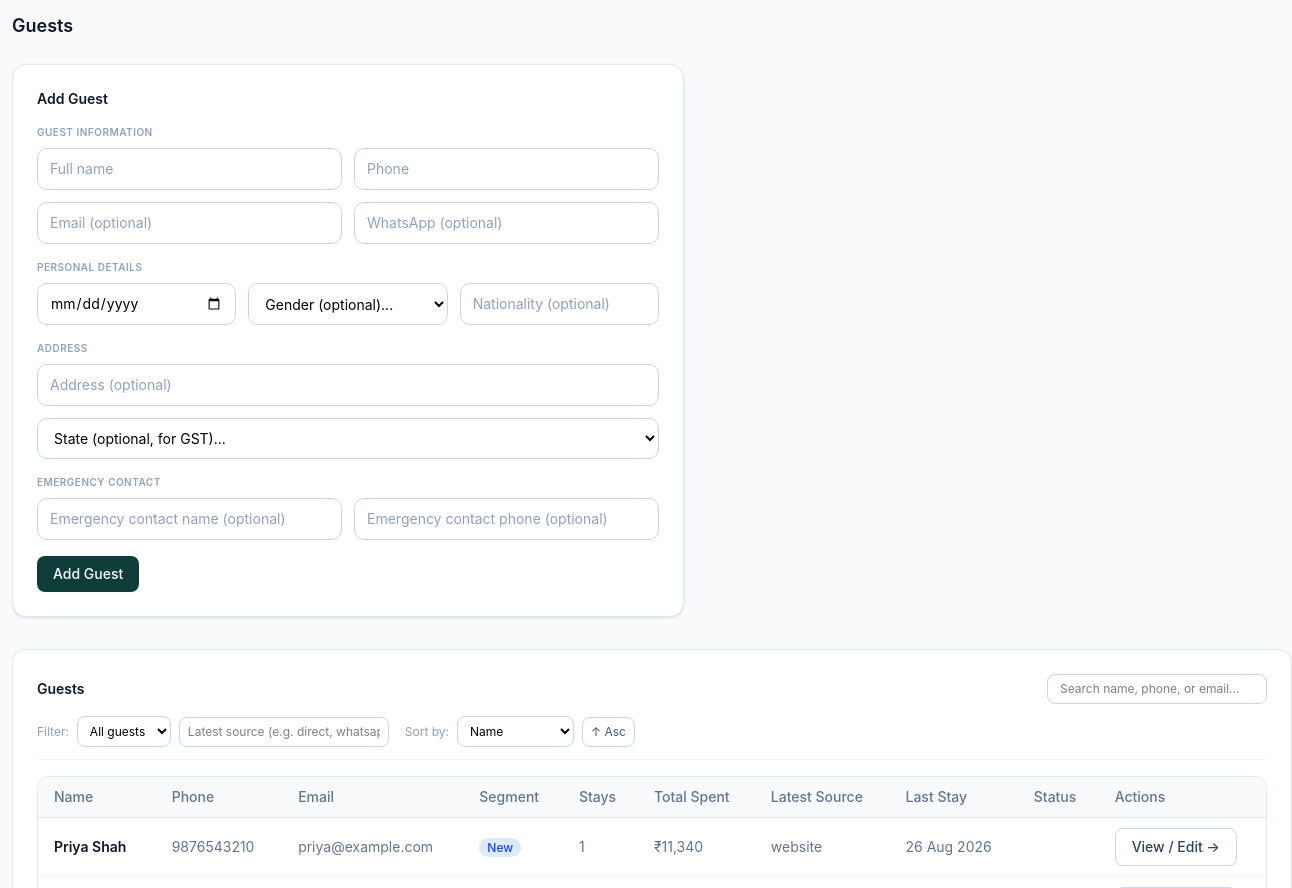
GuestsPage — UI polish › the segment filter still narrows the guest list
Check: the text "Priya Shah" is shown, box [38,818,156,876]
Select "Repeat" in the 3rd dropdown: (124, 732) [77,716,171,747]
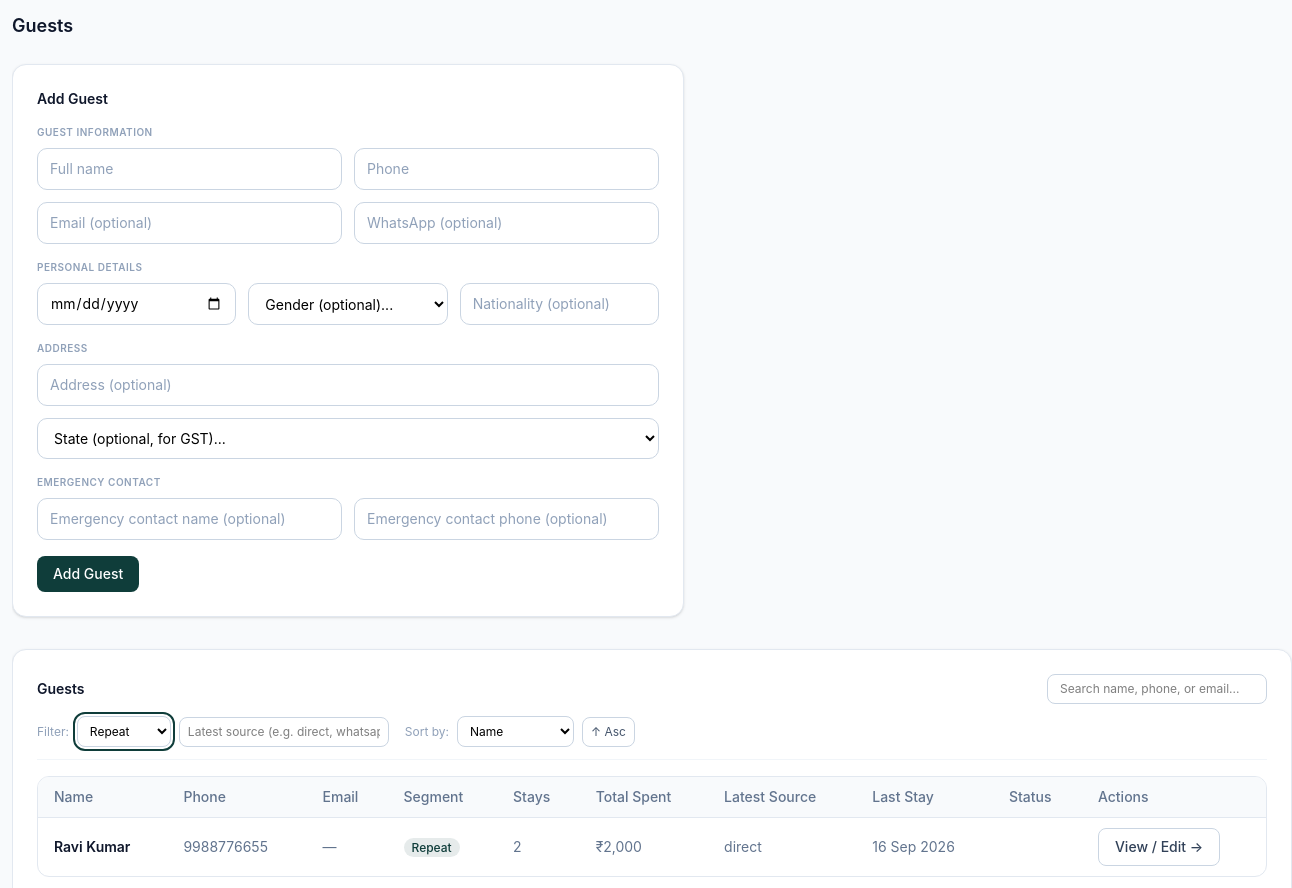
Check: the text "Ravi Kumar" is shown, box [38,818,167,876]
Check: the text "Priya Shah" is gone
